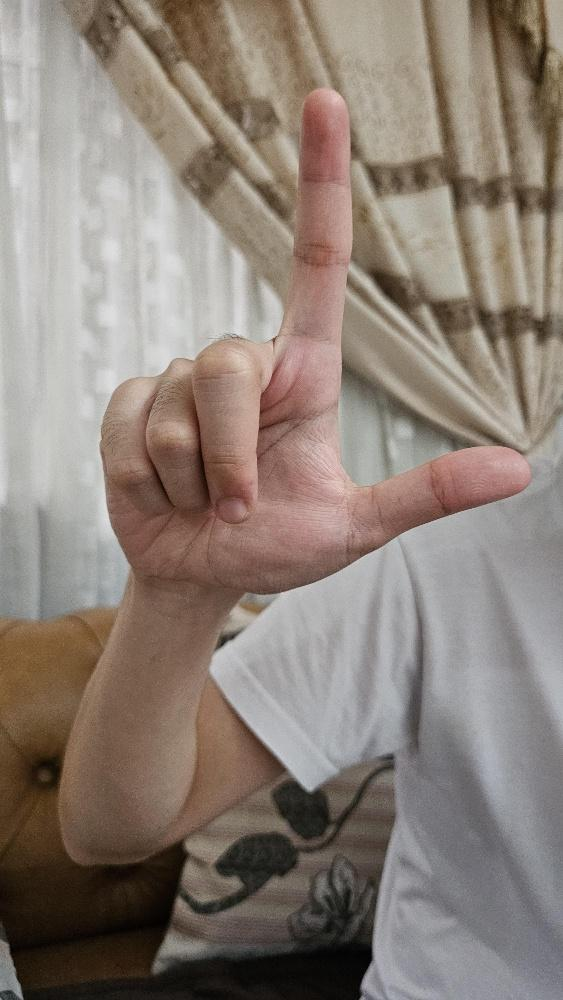l: (96, 84, 533, 598)
